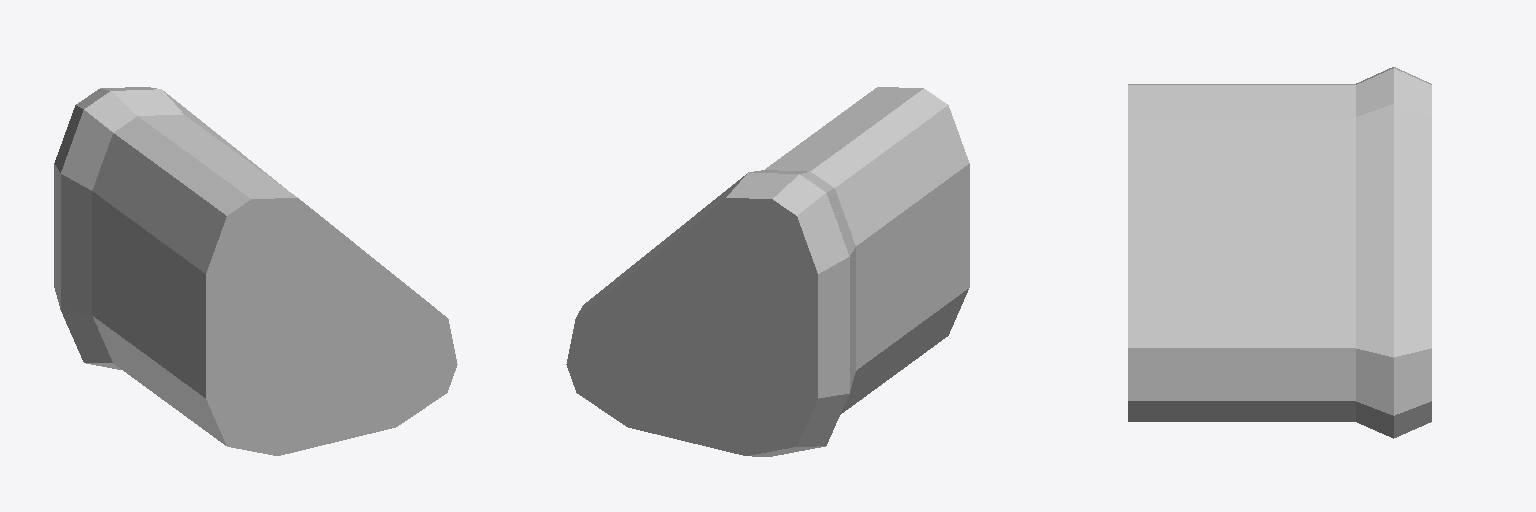
The model's file is block-snow-corner.obj.
3 renders of one model, left to right at view 1: azimuth 30°, elevation 25°; view 2: azimuth 150°, elevation 25°; view 3: azimuth 270°, elevation 25°, orthographic.
Parts seen in each view (by area): view 1: block-snow-corner; view 2: block-snow-corner; view 3: block-snow-corner.
Boxes of the visible parts, x1=… form: block-snow-corner: x1=54, y1=87, x2=457, y2=455; block-snow-corner: x1=566, y1=87, x2=969, y2=456; block-snow-corner: x1=1128, y1=67, x2=1431, y2=438.
Bounding box in the file's own units: 1.05 × 1.05 × 1.